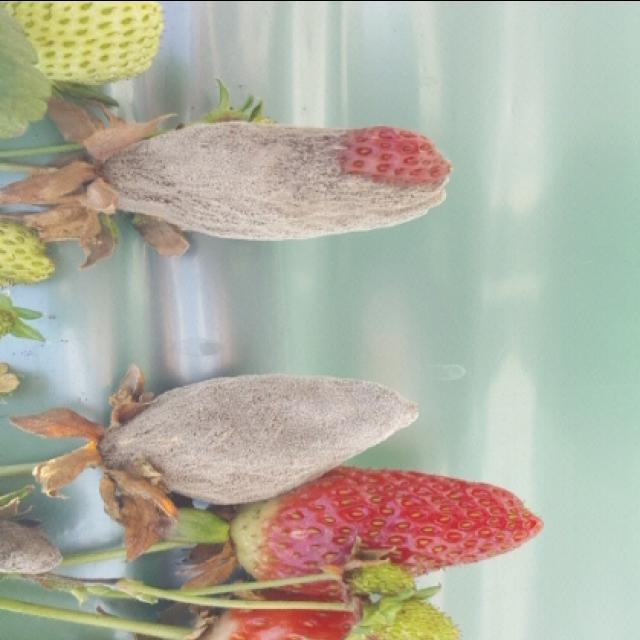Gray Mold: (98, 119, 452, 242), (97, 373, 419, 504), (0, 517, 64, 575)
